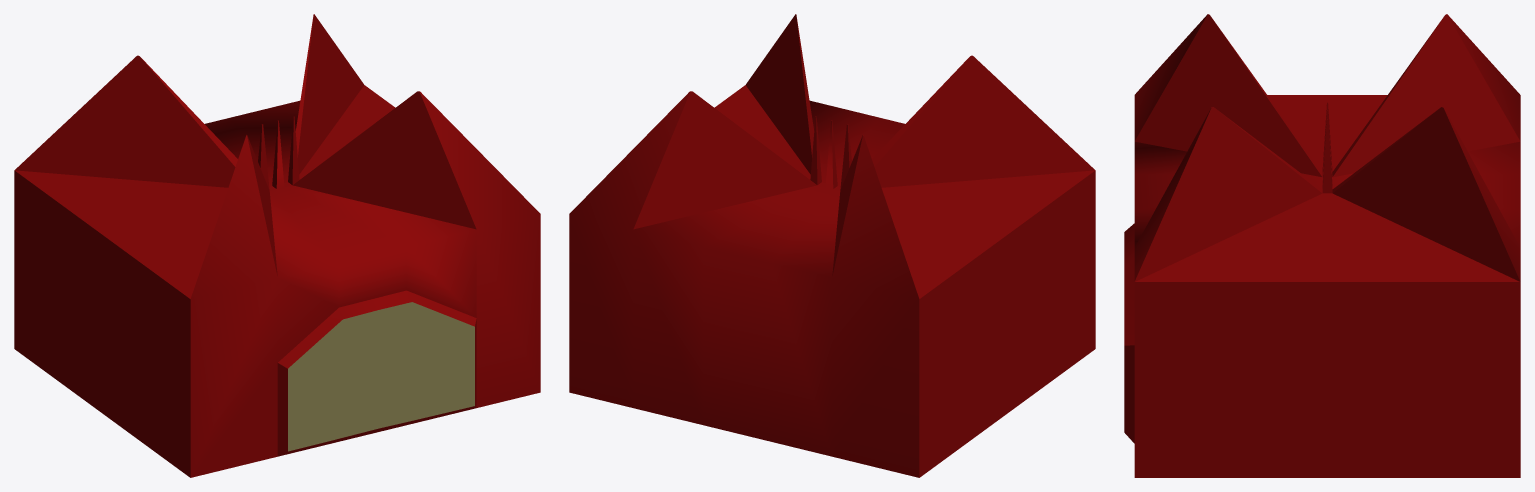
The model's file is ExportedFBXFile.fbx.
The picture shows the model from 3 angles, left to right: view 1: azimuth 30°, elevation 25°; view 2: azimuth 150°, elevation 25°; view 3: azimuth 270°, elevation 25°; orthographic projection. The views are drawn at different scales.
Parts seen in each view (by area): view 1: pCube1; view 2: pCube1; view 3: pCube1.
Part boxes in pixels (<box>): pCube1: <box>14,14,540,477</box>; pCube1: <box>569,14,1095,477</box>; pCube1: <box>1124,14,1520,477</box>.
Bounding box in the file's own units: 14.95 × 12.09 × 13.37.
